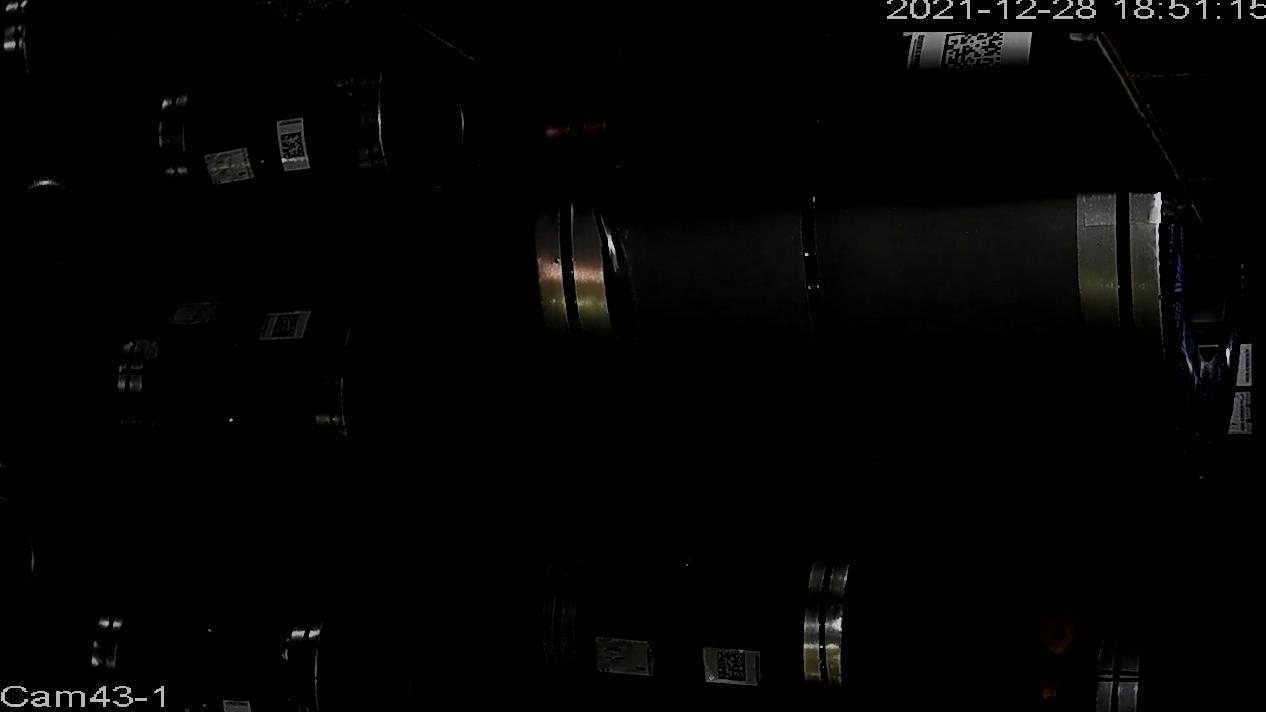data matrix: (939, 29, 1006, 84), (715, 649, 749, 686), (278, 131, 308, 163), (270, 313, 303, 342)
